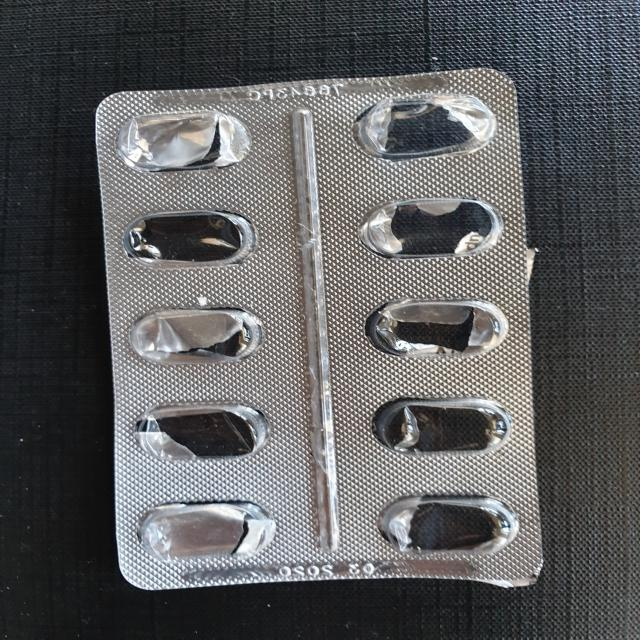Empty: (330, 90, 512, 170), (125, 488, 283, 568), (123, 297, 271, 376), (362, 295, 521, 367), (108, 106, 260, 180), (352, 194, 514, 260), (379, 491, 523, 564), (121, 400, 275, 467), (368, 392, 504, 459), (118, 208, 260, 271)
